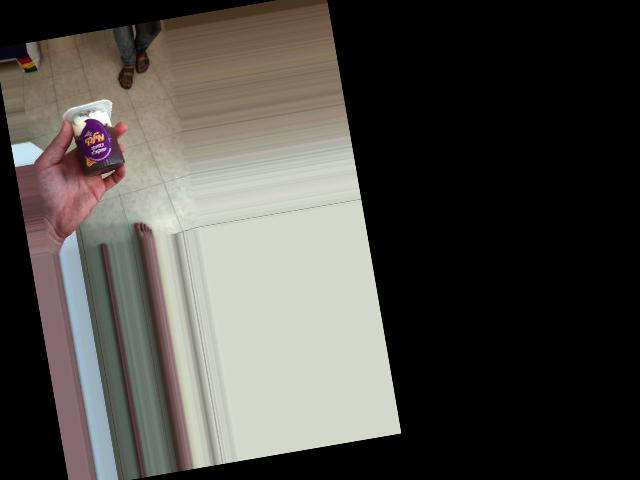milky: (70, 98, 127, 188)
